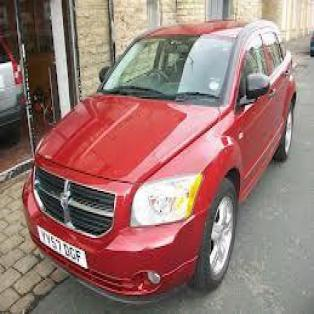Auto: (23, 19, 298, 301)
